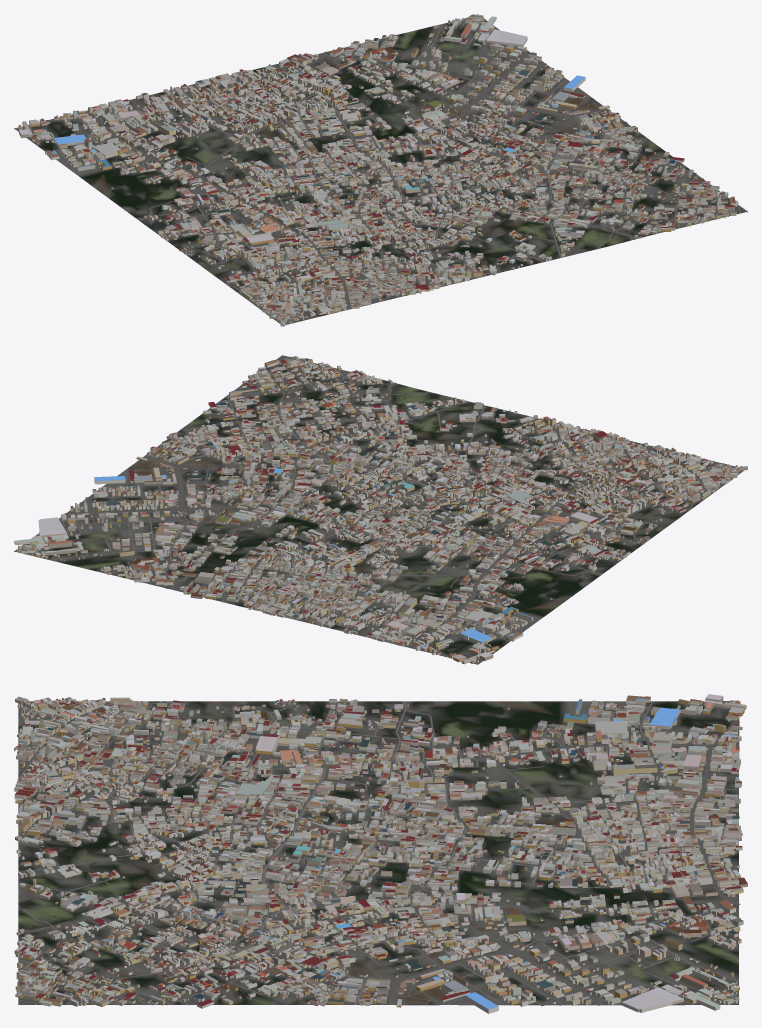
3 views of the same model, one above another, from view 1: azimuth 30°, elevation 25°; view 2: azimuth 150°, elevation 25°; view 3: azimuth 270°, elevation 25° (orthographic). The views are drawn at different scales.
Parts seen in each view (by area): view 1: buildings, ground, roads; view 2: buildings, ground, roads; view 3: buildings, ground, roads.
Part boxes in pixels (x1,y1,x2,y2): buildings: [18, 14, 738, 326]; ground: [14, 18, 747, 324]; roads: [28, 19, 741, 324]; buildings: [14, 356, 747, 664]; ground: [14, 355, 743, 664]; roads: [24, 356, 739, 656]; buildings: [14, 694, 747, 1013]; ground: [18, 700, 739, 1005]; roads: [17, 701, 740, 1006].
Size of the model in its own units: 1451 by 28.06 by 1426.
